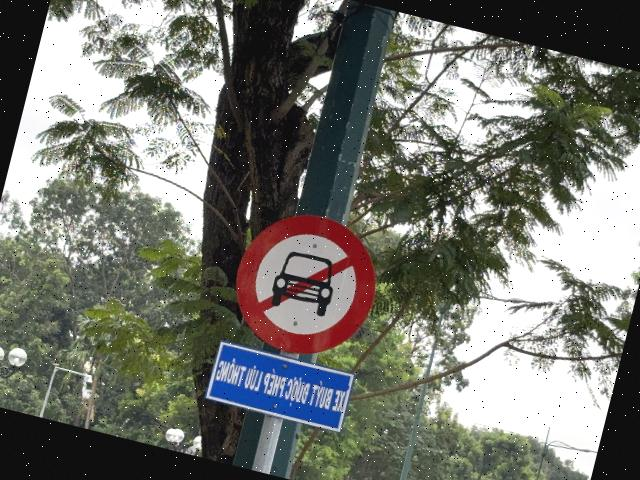cam-o-to: (222, 199, 389, 370)
